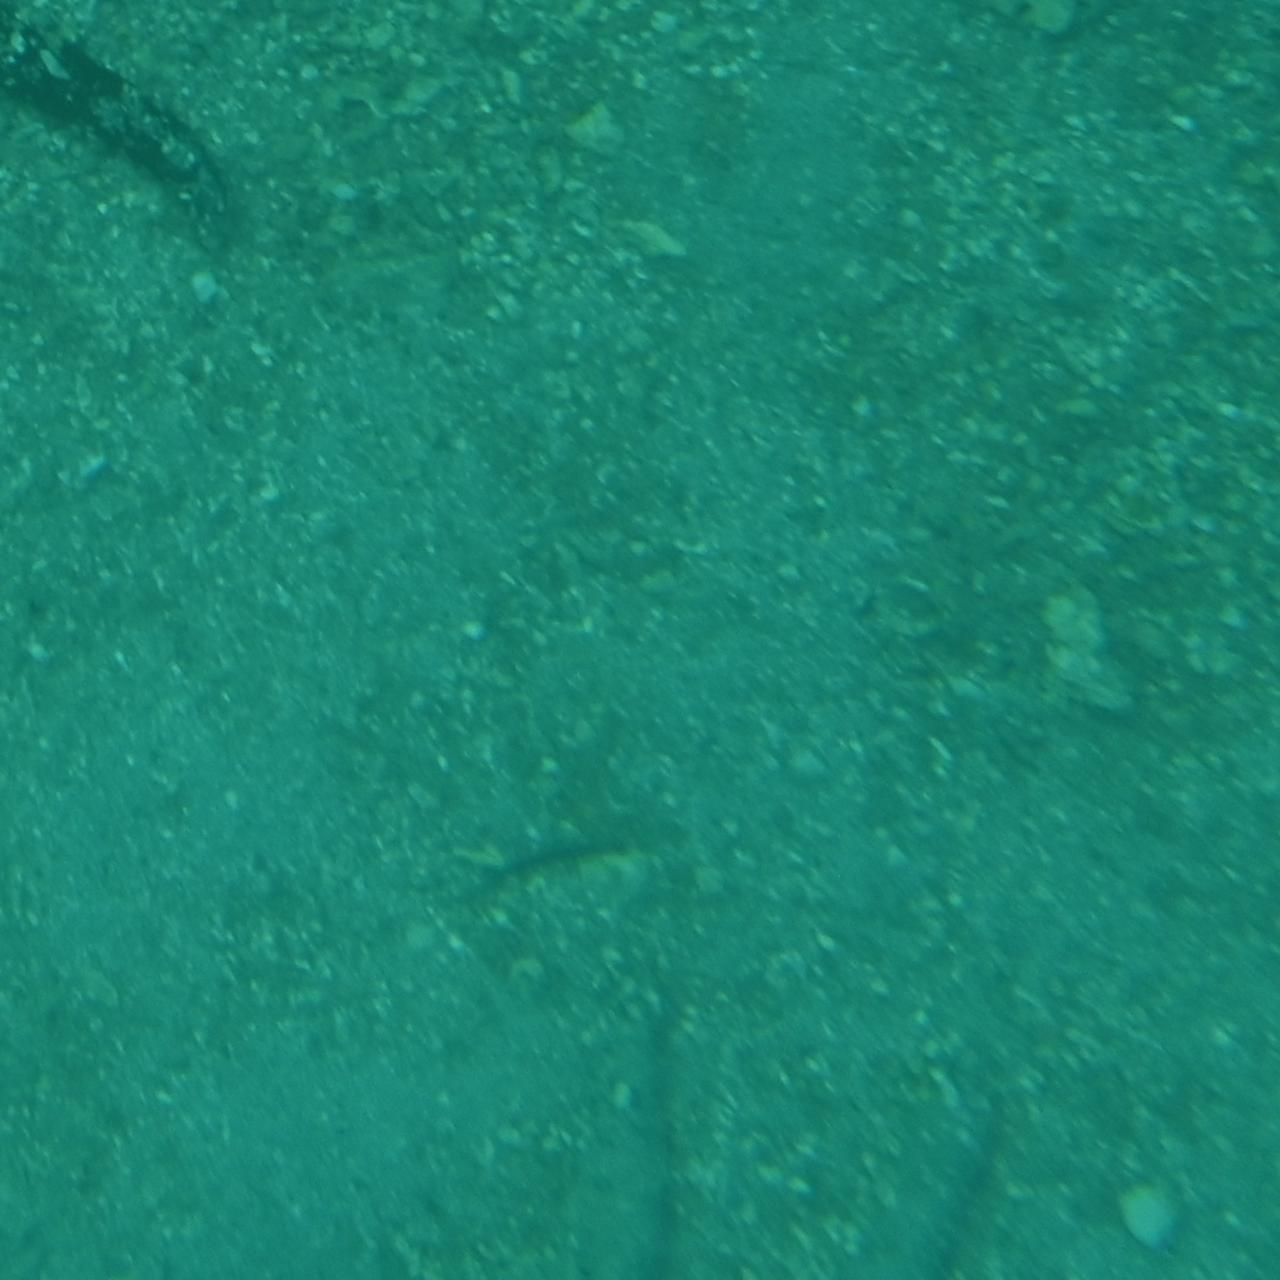Holothuria tubulosa: (564, 984, 716, 1280)
